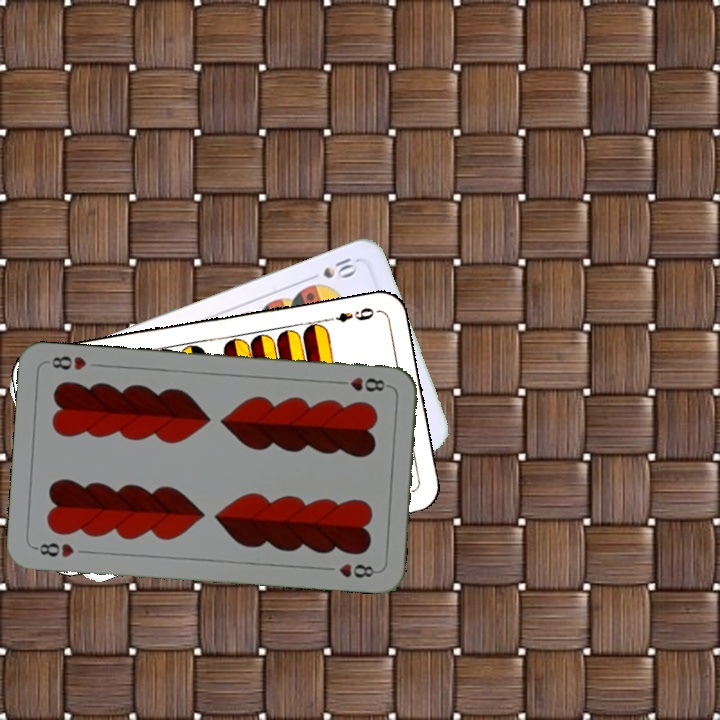E9: (322, 303, 381, 325)
H8: (333, 373, 392, 394), (31, 539, 77, 560)
S10: (303, 253, 361, 283)
